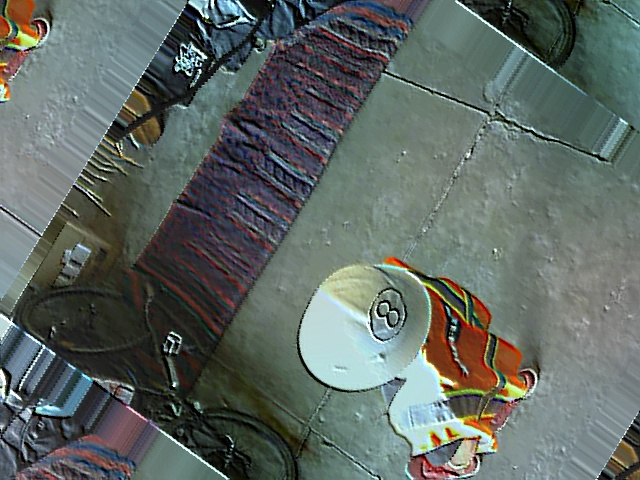eight: (356, 280, 415, 347)
